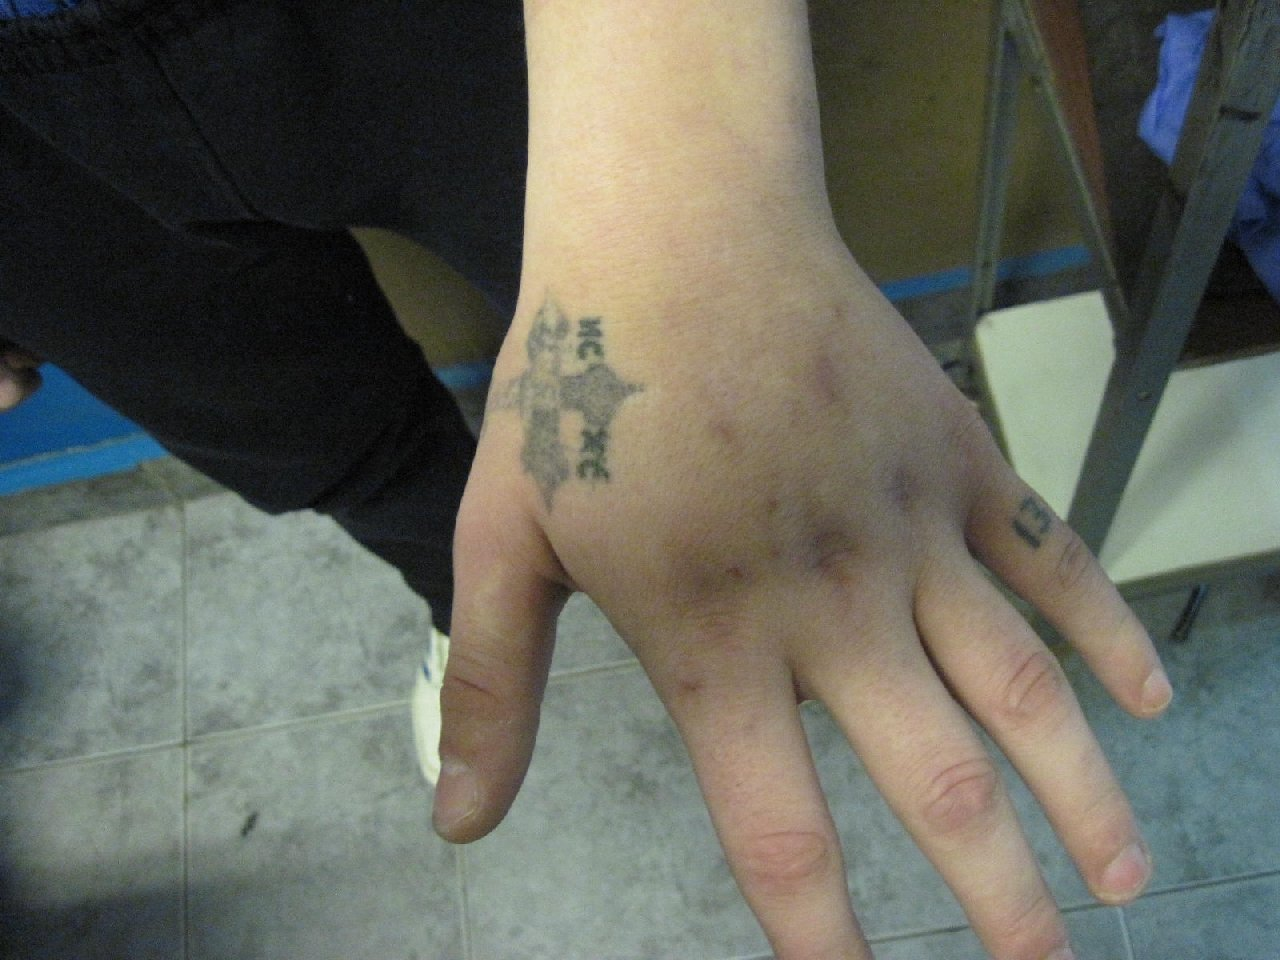tatu9_krest: (478, 286, 660, 534)
